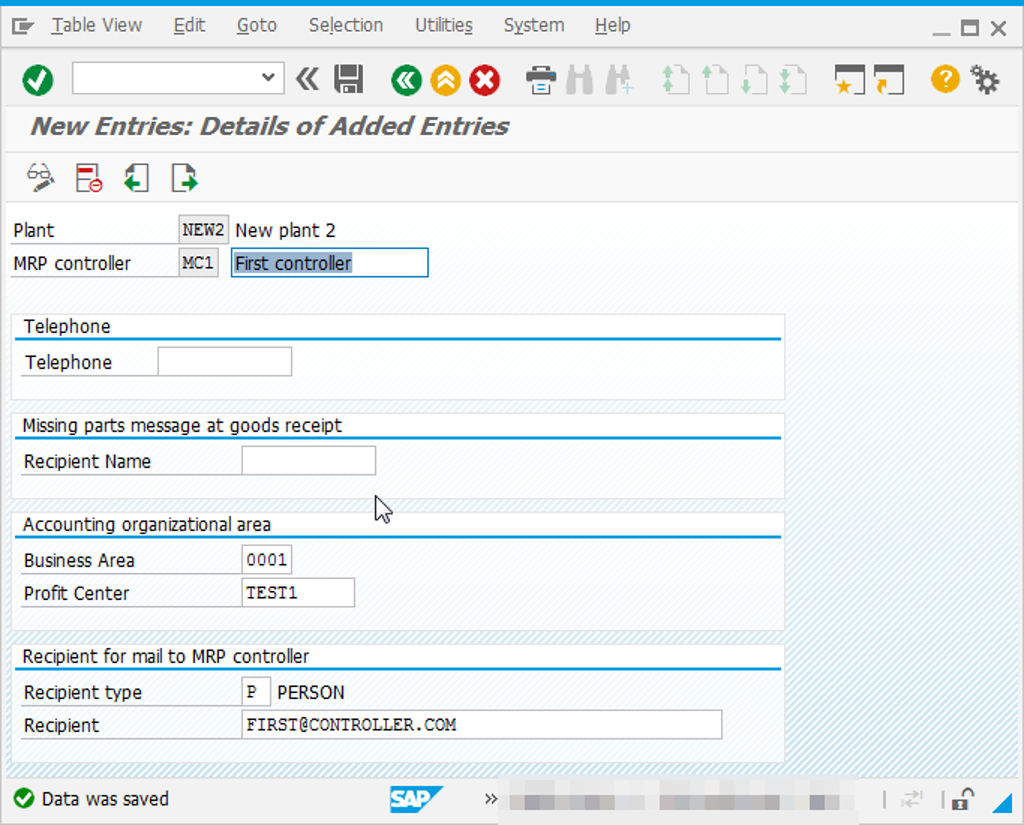button: (47, 12, 147, 38), (178, 212, 232, 247), (308, 12, 386, 36), (501, 13, 567, 37), (413, 13, 476, 37), (178, 246, 221, 278), (967, 62, 1002, 97), (24, 159, 58, 195), (389, 62, 423, 97), (21, 62, 54, 98), (73, 159, 105, 196), (331, 61, 365, 95), (429, 63, 463, 97), (833, 62, 867, 96), (871, 62, 905, 96), (468, 62, 501, 97), (524, 62, 557, 97), (563, 60, 596, 95), (701, 61, 731, 98), (603, 62, 634, 97), (929, 59, 960, 94), (234, 14, 280, 37), (778, 62, 808, 97), (592, 13, 633, 38), (662, 63, 692, 97), (123, 160, 152, 195), (170, 161, 199, 195), (741, 63, 769, 98), (171, 12, 210, 36), (8, 11, 38, 41), (294, 65, 321, 93), (958, 14, 983, 39), (987, 14, 1010, 39), (930, 15, 953, 38), (480, 791, 502, 808), (258, 67, 278, 85)
common: (10, 246, 140, 276), (40, 788, 172, 810), (10, 216, 68, 245), (276, 681, 347, 703)
container: (1, 204, 1024, 779), (12, 512, 784, 629), (12, 645, 784, 761), (11, 412, 783, 500), (11, 314, 784, 400), (1, 50, 1024, 106), (1, 153, 1024, 204), (1, 1, 1024, 49), (1, 107, 1024, 154), (1, 779, 1024, 825), (8, 213, 436, 282), (9, 246, 433, 281), (9, 213, 431, 246), (659, 58, 810, 100), (7, 782, 177, 818), (387, 59, 505, 102), (522, 59, 637, 100), (832, 60, 907, 99)
header: (30, 113, 511, 139), (18, 413, 346, 438), (20, 646, 315, 670), (21, 514, 277, 535), (20, 315, 123, 337)
image: (389, 785, 444, 813), (893, 781, 934, 817), (946, 784, 978, 815), (992, 792, 1017, 817), (12, 787, 35, 809)
table: (19, 675, 725, 744), (20, 546, 365, 614), (18, 444, 381, 479), (21, 344, 299, 379)
table-cell: (240, 707, 723, 742), (239, 673, 722, 707), (21, 706, 240, 741), (22, 573, 243, 606), (21, 674, 240, 706), (21, 445, 243, 476), (21, 544, 244, 573), (240, 444, 379, 477), (244, 573, 358, 609), (22, 346, 158, 376), (157, 347, 293, 376), (244, 545, 359, 574)
table-row: (20, 706, 724, 742), (20, 674, 724, 709), (21, 574, 364, 611), (20, 444, 380, 478), (21, 546, 363, 576), (21, 345, 296, 377)
text-input: (240, 708, 722, 741), (70, 59, 287, 95), (230, 212, 431, 245), (230, 246, 434, 278), (158, 347, 294, 376), (244, 576, 361, 607), (245, 546, 294, 576), (239, 675, 274, 706)
